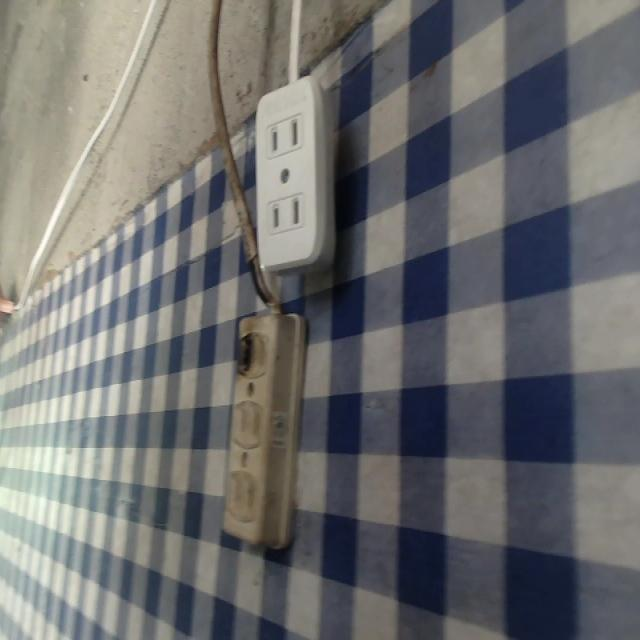-: (227, 325, 258, 380)
